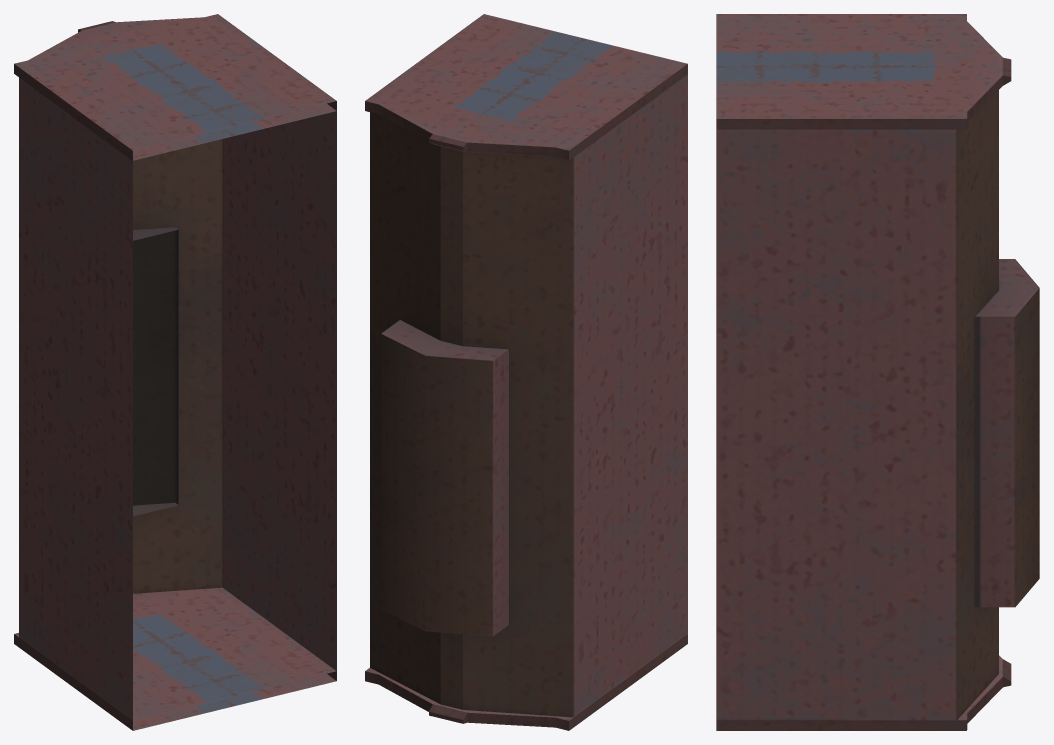
File: house_base.fbx
3 renders of one model, left to right at view 1: azimuth 30°, elevation 25°; view 2: azimuth 150°, elevation 25°; view 3: azimuth 270°, elevation 25°, orthographic. The views are drawn at different scales.
Visible parts, largest first — view 1: house_base; view 2: house_base; view 3: house_base.
Part boxes in pixels (bbox=[...]): house_base: bbox=[14, 14, 336, 730]; house_base: bbox=[365, 14, 687, 730]; house_base: bbox=[716, 14, 1039, 730].
Bounding box in the file's own units: 423 × 1149 × 550.
